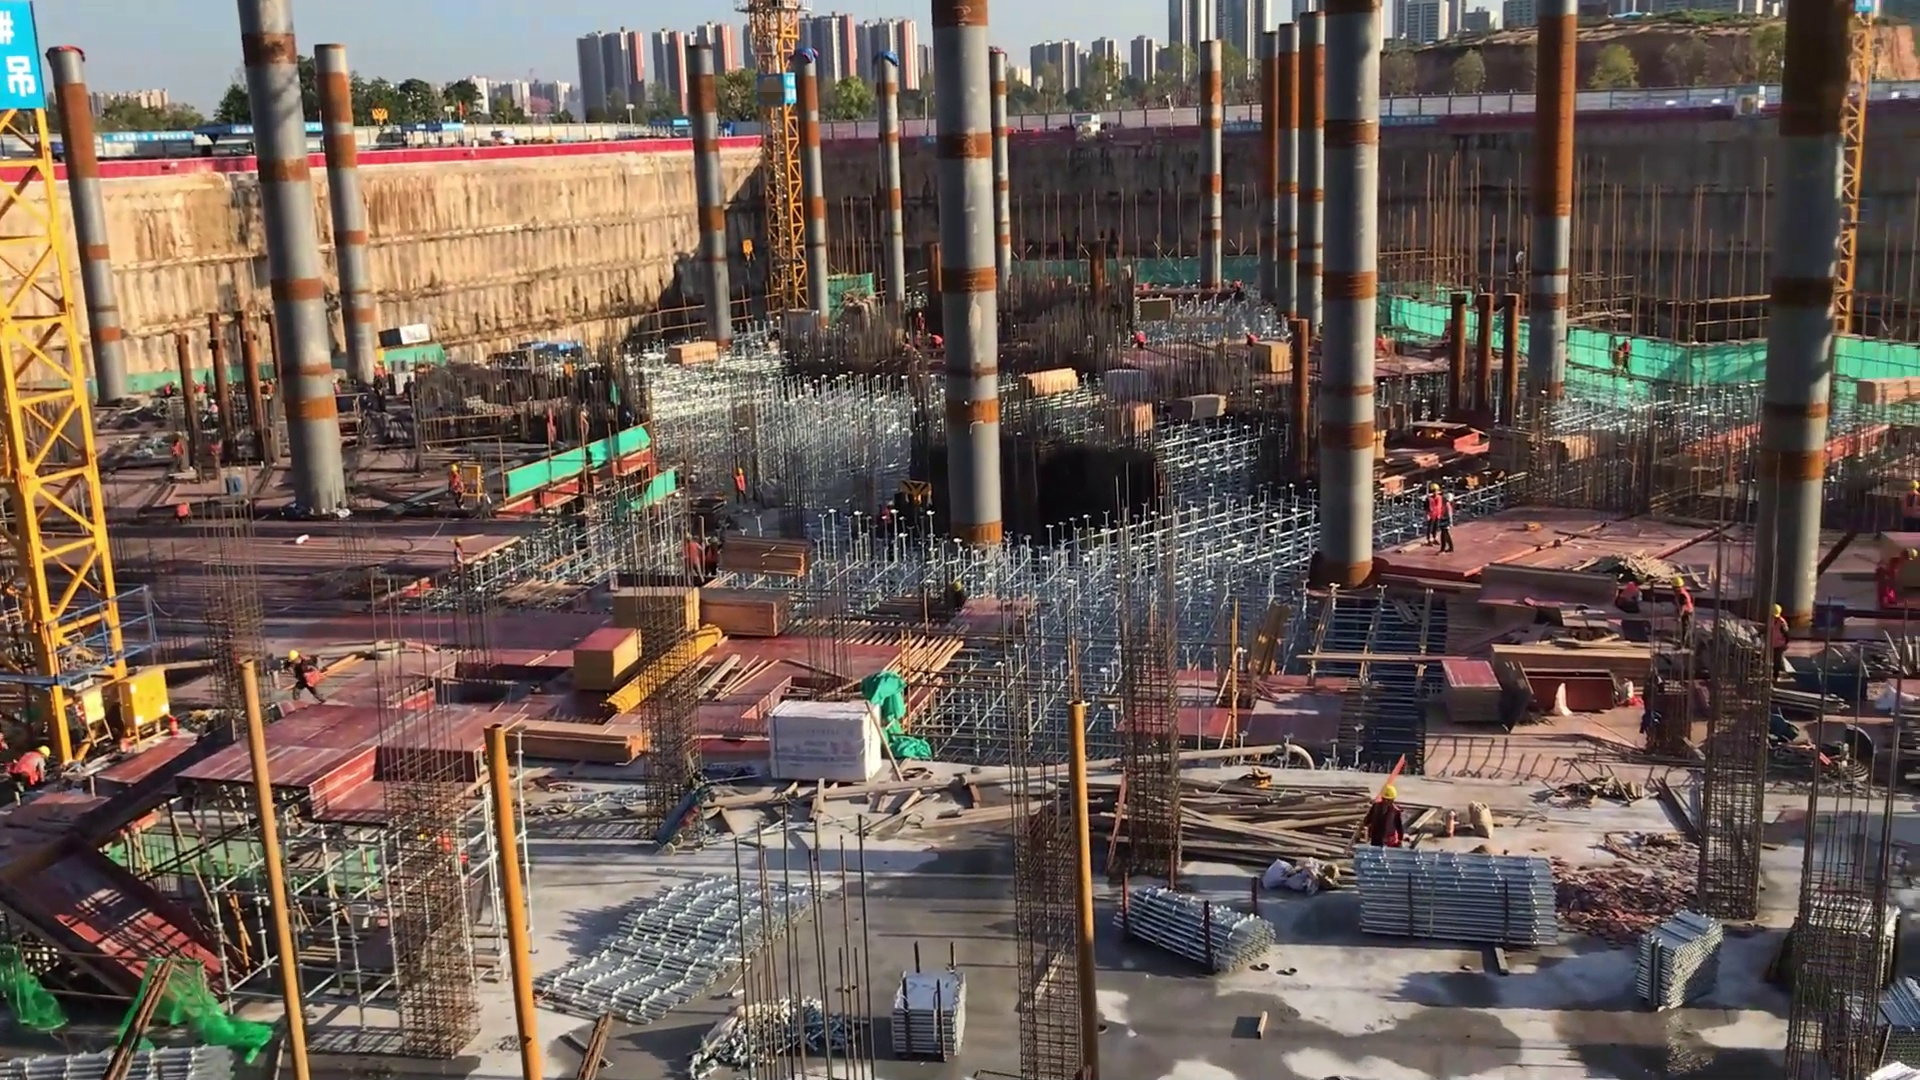board: (572, 623, 642, 695), (1442, 657, 1505, 727), (616, 588, 700, 638), (1256, 340, 1294, 374)
ebox: (120, 664, 180, 754), (70, 677, 111, 741)
helmet: (1669, 572, 1688, 592), (1381, 786, 1398, 807), (34, 743, 51, 762), (1631, 570, 1648, 586), (286, 648, 302, 663), (1443, 490, 1459, 507), (449, 463, 461, 477), (684, 528, 695, 545), (1431, 484, 1440, 493)
hook: (1797, 657, 1870, 710), (727, 235, 769, 278), (893, 469, 938, 509), (365, 103, 395, 141)
hopper: (370, 319, 436, 358)
person: (14, 722, 64, 820), (271, 645, 330, 720), (1610, 564, 1656, 657), (1366, 786, 1410, 872), (1758, 604, 1803, 675), (1666, 561, 1696, 652), (1880, 545, 1917, 610), (444, 458, 474, 524), (700, 538, 730, 598), (1441, 489, 1464, 560), (1422, 480, 1444, 550), (1610, 328, 1637, 388), (678, 523, 697, 591), (1900, 480, 1920, 527), (170, 431, 191, 472), (754, 471, 766, 511), (176, 500, 195, 523), (1130, 328, 1148, 353), (735, 469, 746, 501), (1241, 331, 1261, 348)
scaffold: (1349, 845, 1564, 959), (1111, 885, 1286, 977), (1, 1037, 258, 1078), (1632, 907, 1728, 1016)
slogan: (1, 10, 72, 114), (1378, 113, 1444, 126), (1222, 121, 1268, 136)
vest: (1371, 801, 1402, 856), (15, 748, 46, 789), (1880, 553, 1901, 606), (1675, 585, 1696, 624), (1618, 581, 1645, 612), (1901, 490, 1920, 522), (1426, 494, 1442, 526), (449, 474, 466, 499), (735, 473, 747, 497), (178, 504, 191, 519)
wood: (1184, 776, 1368, 865), (1490, 642, 1655, 690), (694, 583, 790, 646), (513, 722, 644, 769), (711, 531, 812, 583), (1857, 371, 1920, 409), (1021, 364, 1080, 401), (1168, 393, 1230, 422), (667, 340, 719, 369)
